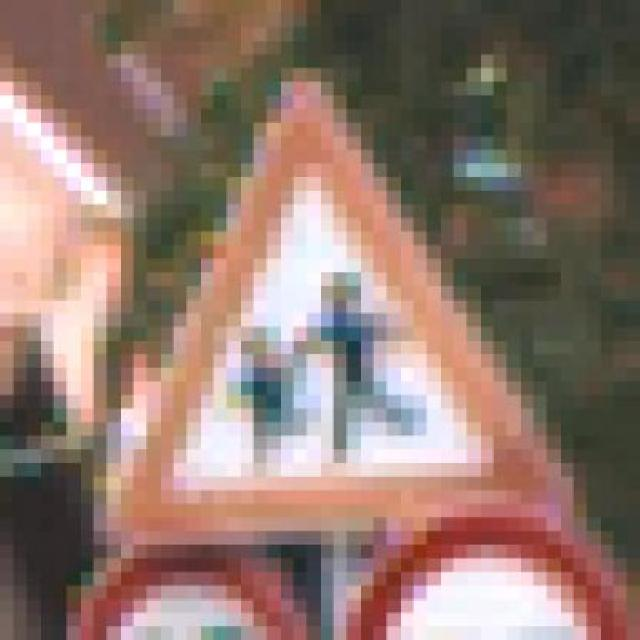Beware of children: (53, 68, 573, 558)
